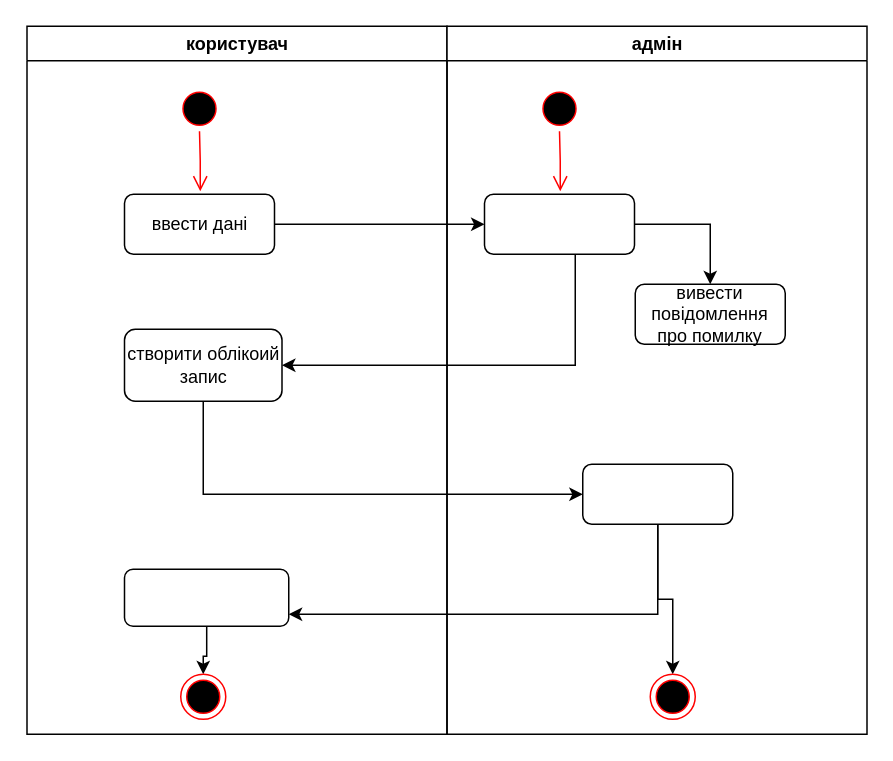
Some shapes in this 893 by 761 pixel diagram are drawn without their labels. Here are the shapes that lost their labels. From the top down, the centre of each, then its label:
the point at 558,223: перевірити валідність
the point at 657,493: надіслати підтвердження
the point at 206,597: отримати підтвердження
